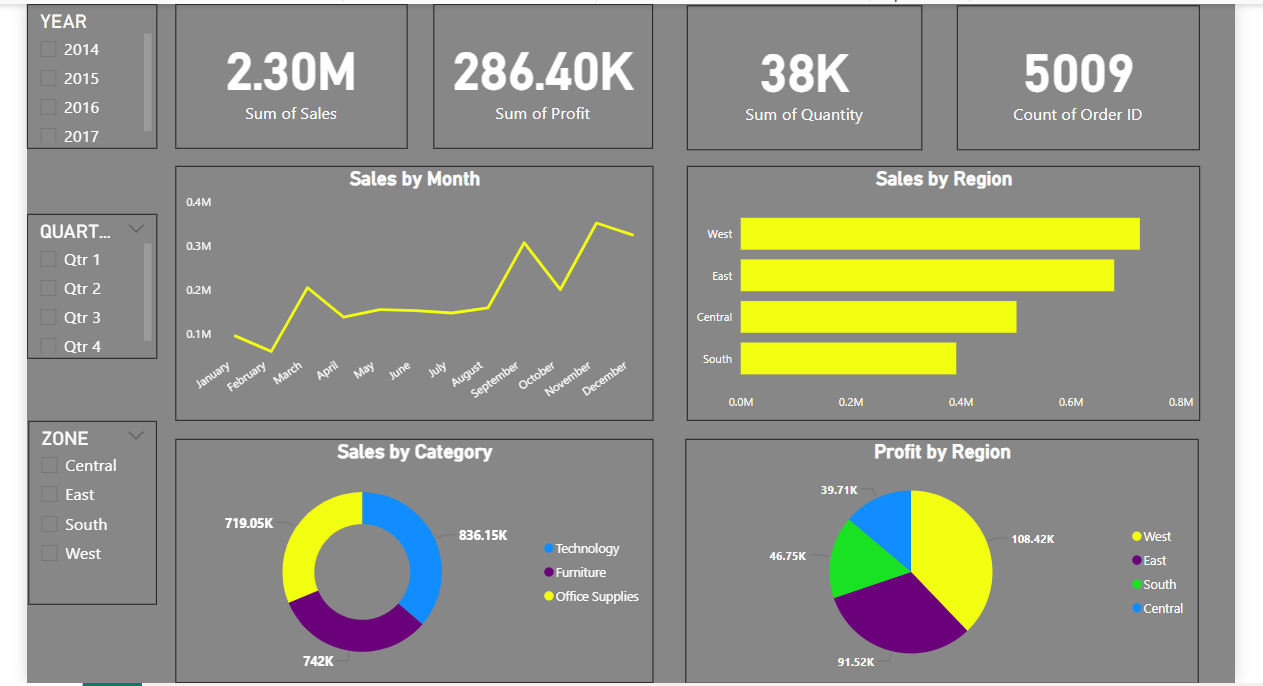

What the dashboard file says about the page in this screenshot:
{"tool":"powerbi","page":{"name":"Page 1","canvas":[1280,720],"ordinal":0},"visuals":[{"type":"slicer","fields":{"Values":["Orders.Order Date.Variation.Date Hierarchy.Year"]},"box":[0,0,138,153.1],"z":0},{"type":"slicer","fields":{"Values":["Orders.Order Date.Variation.Date Hierarchy.Quarter"]},"box":[0,223,138,153.1],"z":2000},{"type":"slicer","fields":{"Values":["People.Region"]},"box":[1.9,442.2,136.1,194.6],"z":3000},{"type":"card","fields":{"Values":["Sum(Orders.Sales)"]},"box":[156.9,0,245.7,153.1],"z":4000},{"type":"card","fields":{"Values":["Sum(Orders.Profit)"]},"box":[430.9,0.6,232.4,153.1],"z":5000},{"type":"card","fields":{"Values":["Sum(Orders.Quantity)"]},"box":[699.2,1.9,249.5,153.1],"z":6000},{"type":"card","fields":{"Values":["Count(Orders.Order ID)"]},"box":[986.5,1.9,257,153.1],"z":7000},{"type":"lineChart","title":"Sales by Month","fields":{"Y":["Sum(Orders.Sales)"],"Category":["Orders.Order Date.Variation.Date Hierarchy.Month"]},"box":[156.9,172,506.5,270.2],"z":7001},{"type":"barChart","title":" Sales by Region","fields":{"Category":["People.Region"],"Y":["Sum(Orders.Sales)"]},"box":[699.2,172,544.3,270.2],"z":7002},{"type":"donutChart","title":"Sales by Category","fields":{"Y":["Sum(Orders.Sales)"],"Category":["Orders.Category"]},"box":[156.9,461.1,506.5,258.9],"z":7003},{"type":"pieChart","title":"Profit by Region","fields":{"Category":["People.Region"],"Y":["Sum(Orders.Profit)"]},"box":[699,461,544,259],"z":7004}]}

Visuals, with their boxes in screenshot pixels (x1, y1, x2, y2):
slicer - Orders.Order Date.Variation.Date Hierarchy.Year: x1=23, y1=0, x2=153, y2=144
slicer - Orders.Order Date.Variation.Date Hierarchy.Quarter: x1=23, y1=210, x2=153, y2=354
slicer - People.Region: x1=25, y1=416, x2=153, y2=600
card - Sum(Orders.Sales): x1=171, y1=0, x2=402, y2=144
card - Sum(Orders.Profit): x1=429, y1=1, x2=648, y2=145
card - Sum(Orders.Quantity): x1=681, y1=2, x2=916, y2=146
card - Count(Orders.Order ID): x1=952, y1=2, x2=1194, y2=146
"Sales by Month" lineChart: x1=171, y1=162, x2=648, y2=416
" Sales by Region" barChart: x1=681, y1=162, x2=1194, y2=416
"Sales by Category" donutChart: x1=171, y1=434, x2=648, y2=678
"Profit by Region" pieChart: x1=681, y1=434, x2=1193, y2=678
